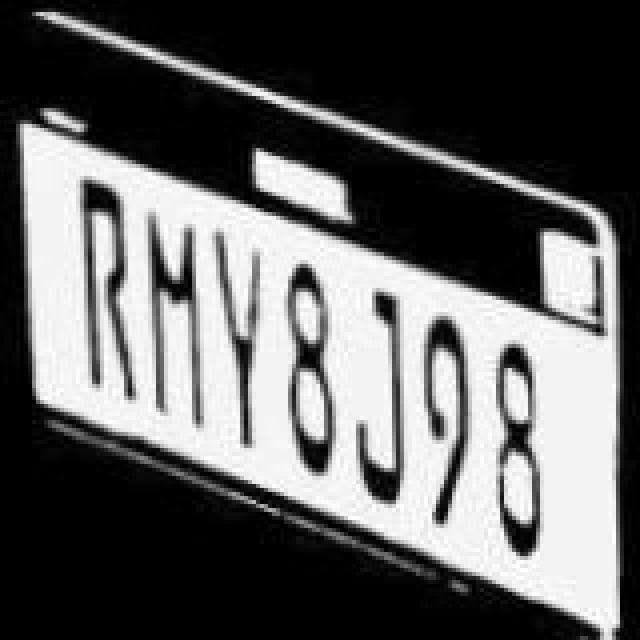8: (488, 332, 556, 552), (284, 260, 340, 476)
9: (414, 310, 486, 526)
J: (348, 284, 412, 504)
M: (138, 198, 210, 442)
R: (76, 172, 140, 408)
Y: (206, 224, 270, 448)
